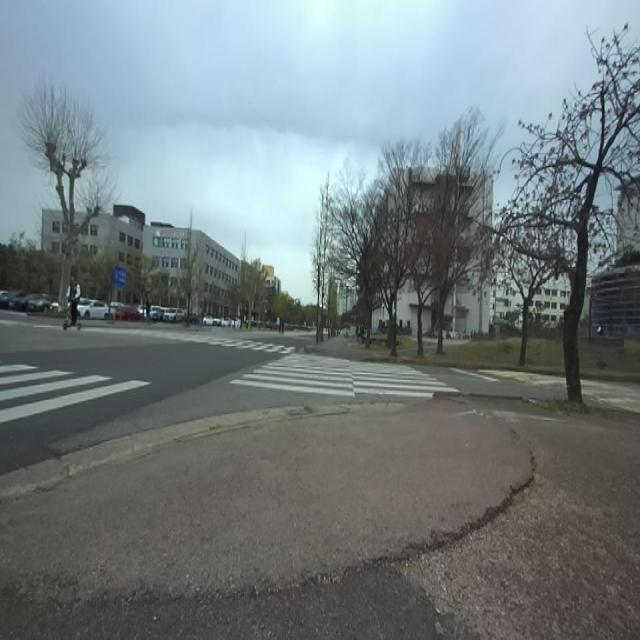sidewalk: (0, 397, 640, 640), (304, 335, 397, 361)
